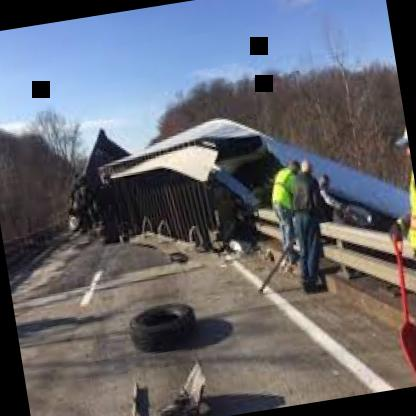accident: (41, 80, 291, 293)
